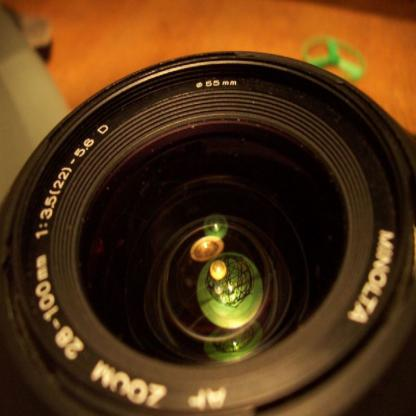Camera: (1, 50, 416, 416)
